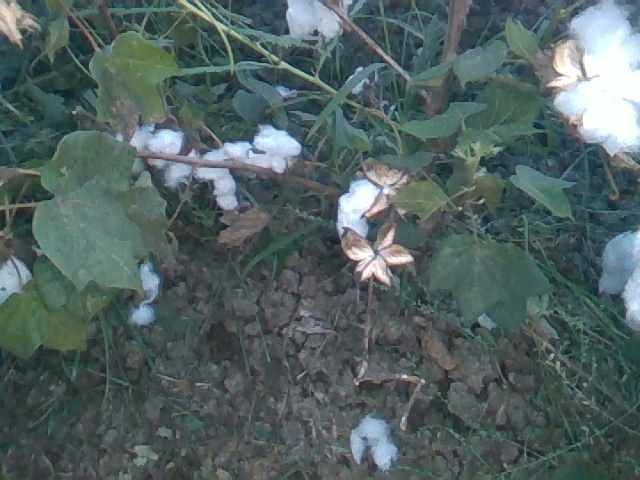cotton: (544, 3, 640, 158), (597, 225, 639, 335), (191, 140, 251, 213), (105, 123, 185, 167), (334, 177, 388, 242), (348, 411, 401, 472), (281, 1, 355, 43), (123, 260, 162, 327), (252, 123, 304, 159), (1, 253, 36, 306), (344, 65, 372, 95), (273, 84, 301, 102)
